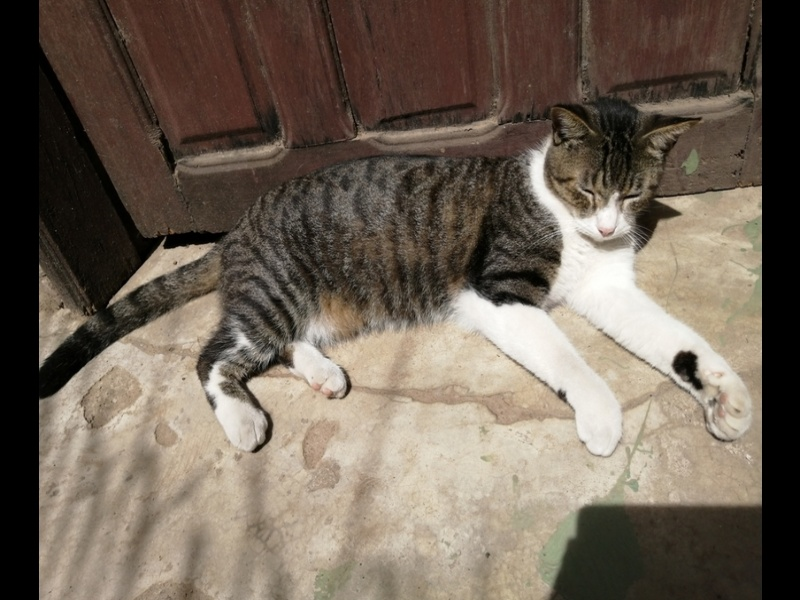cat: (46, 94, 758, 458)
